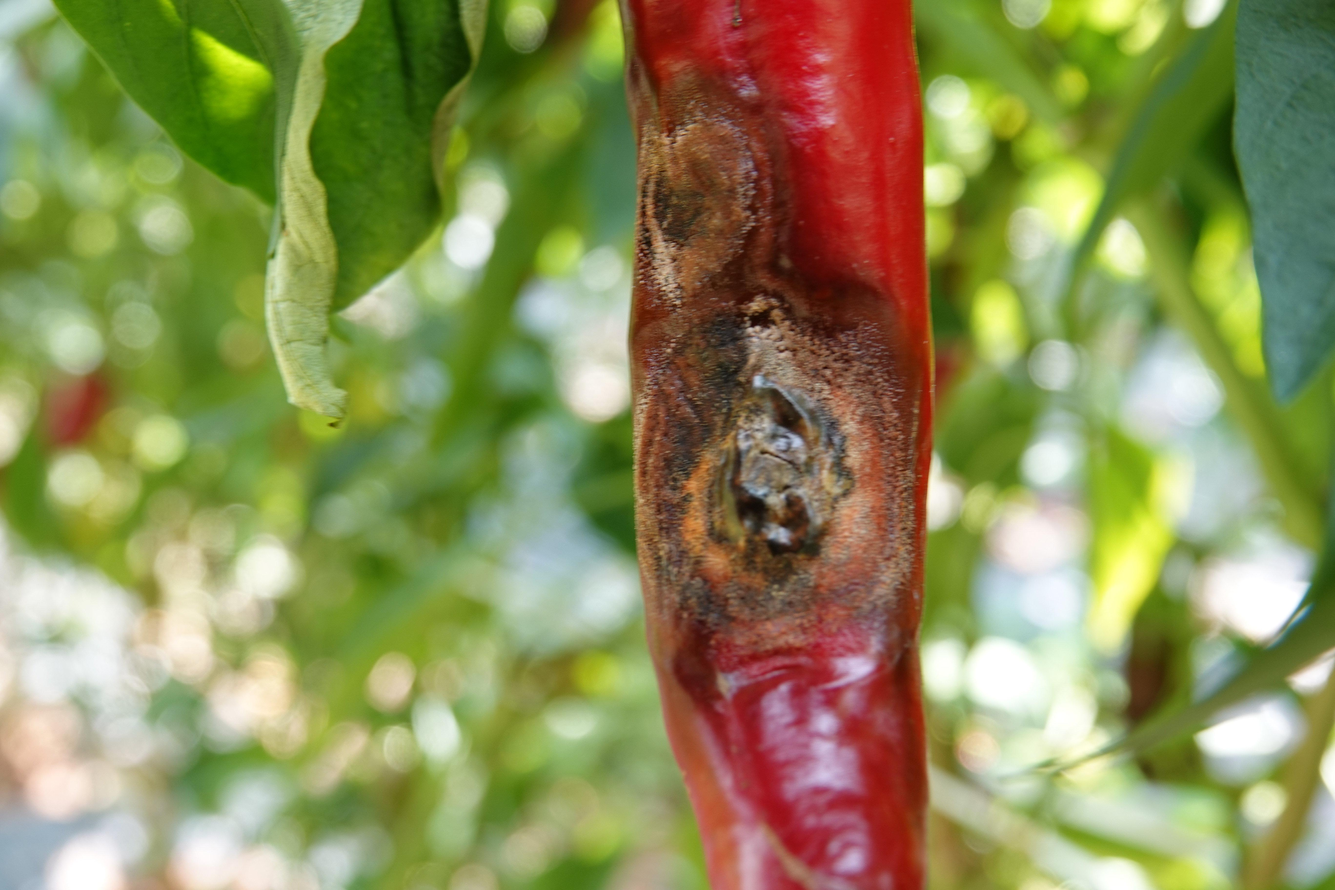Busuk Buah Antraknosa: (615, 1, 937, 888)
